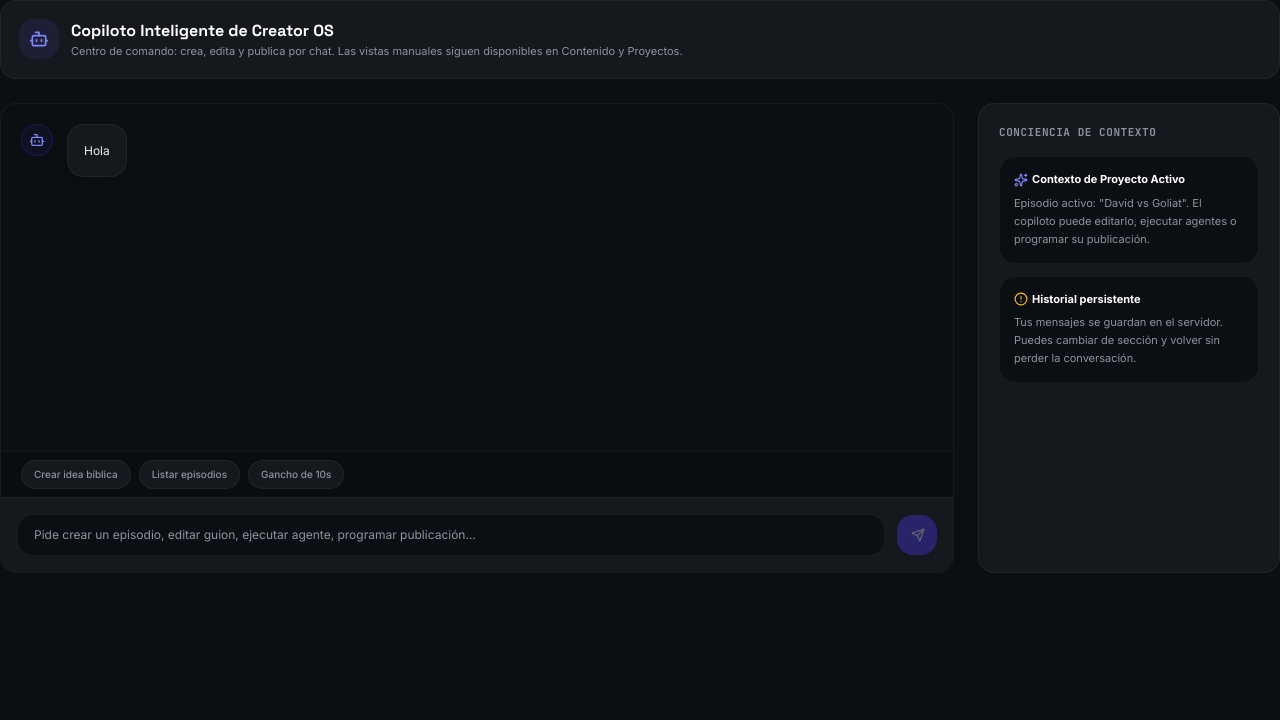
CopilotView › shows a styled refusal when the API returns out_of_scope
Replace the text in the field with placeholder "Pide crear un episodio" with "cuanto es 4+9?" at [451, 534], box [17,514,885,556]
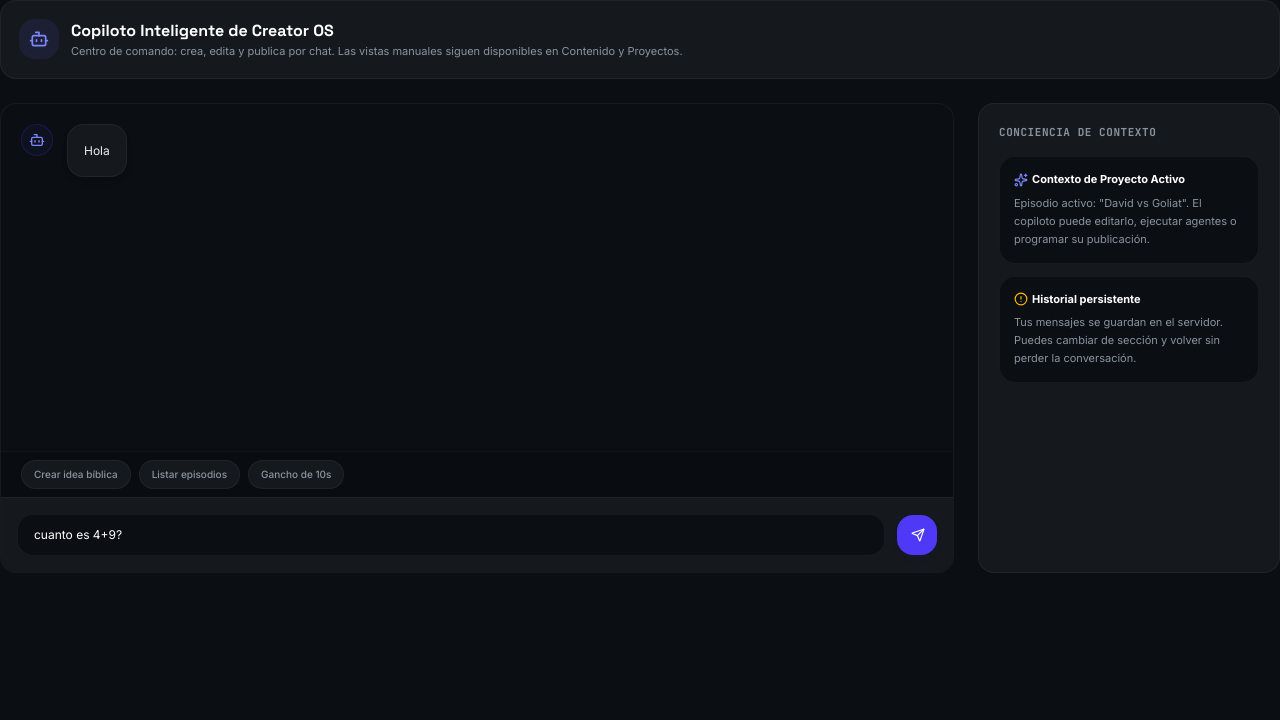
Submit the form with placeholder "Pide crear un episodio", box [1,496,953,572]
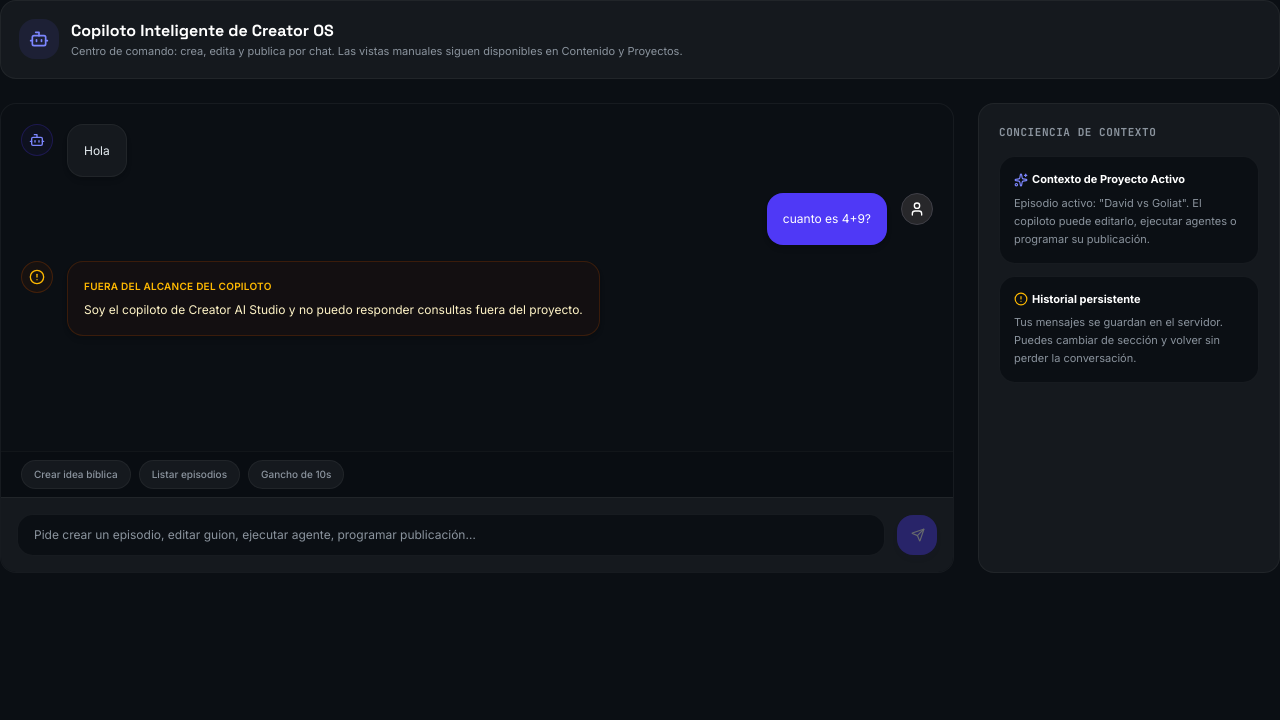
Expected: the text "Fuera del alcance del copiloto" is shown, [84,280,272,292]
Expected: the text "no puedo responder consultas fuera del proyecto" is shown, [84,302,583,317]
